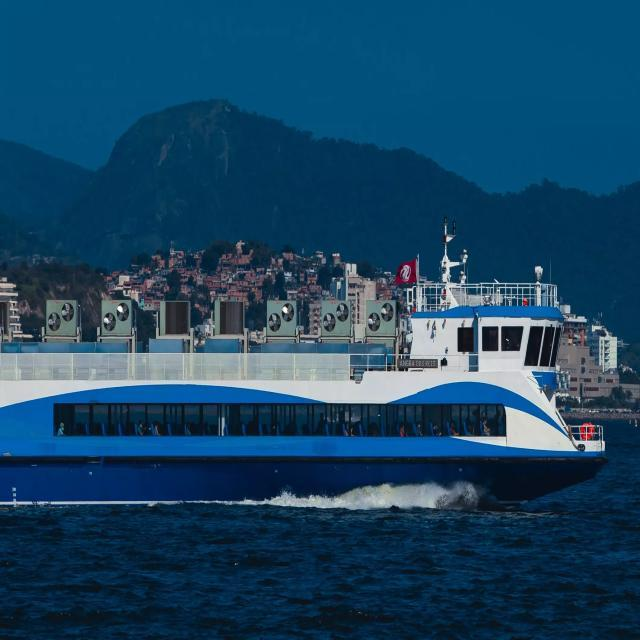Passenger: (0, 221, 605, 503)
